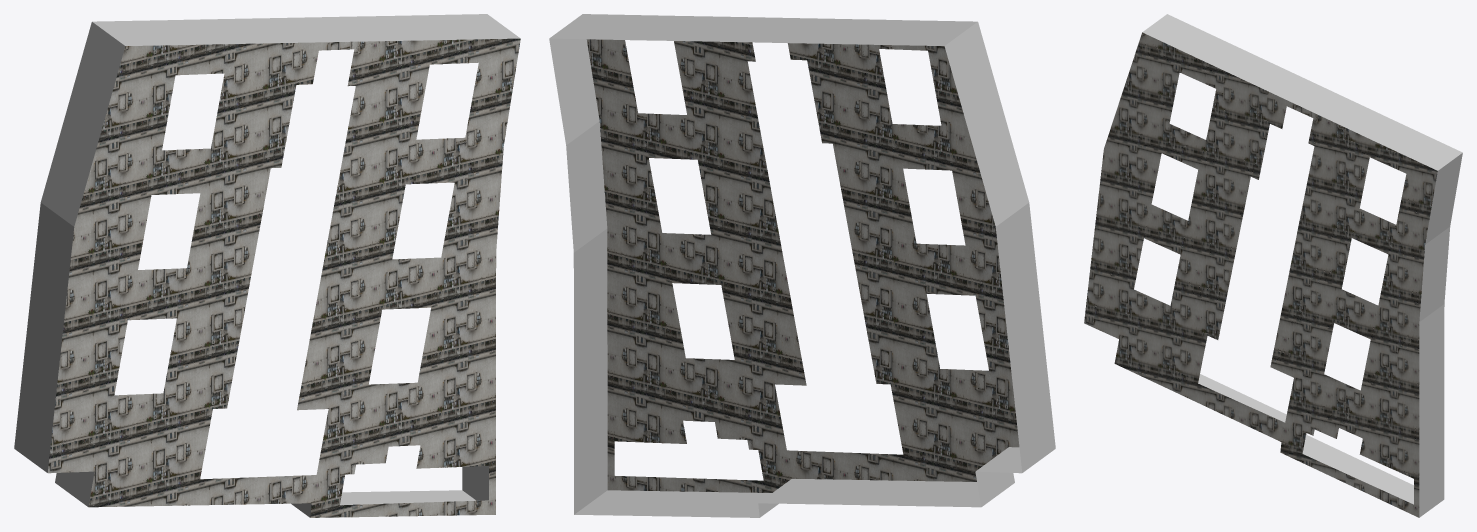
File: geospecific_314.obj
3 renders of one model, left to right at view 1: azimuth 30°, elevation 25°; view 2: azimuth 150°, elevation 25°; view 3: azimuth 330°, elevation 25°, orthographic. The views are drawn at different scales.
Parts seen in each view (by area): view 1: Building; view 2: Building; view 3: Building.
Boxes of the visible parts, <box> form: Building: <box>14,14,520,517</box>; Building: <box>549,14,1055,517</box>; Building: <box>1084,14,1462,517</box>.
Bounding box in the file's own units: 73.27 × 82.73 × 9.
